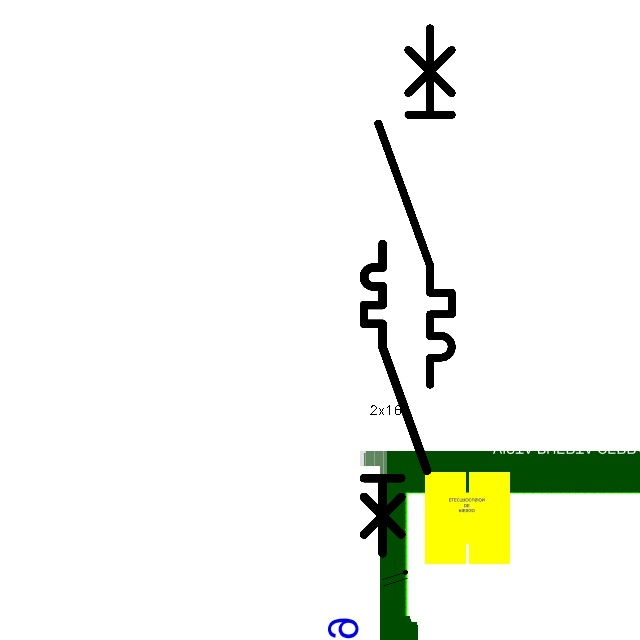interruptor_termomagnetico: (369, 19, 461, 394), (356, 236, 435, 561)
